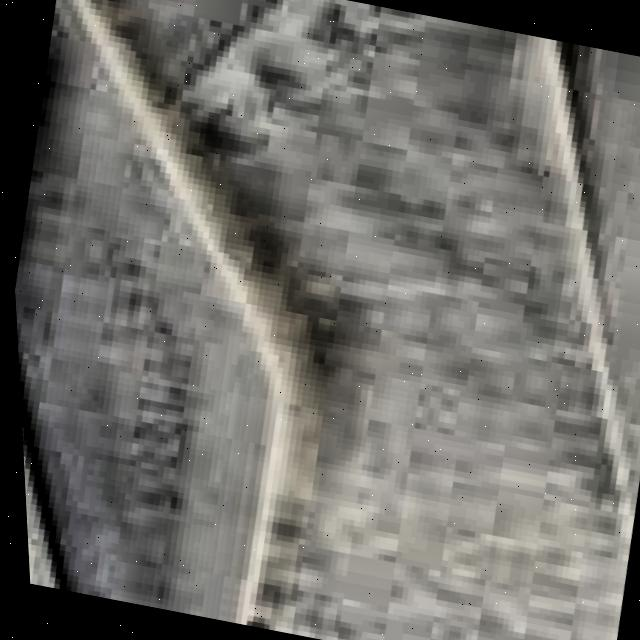paper: (12, 0, 629, 640)
